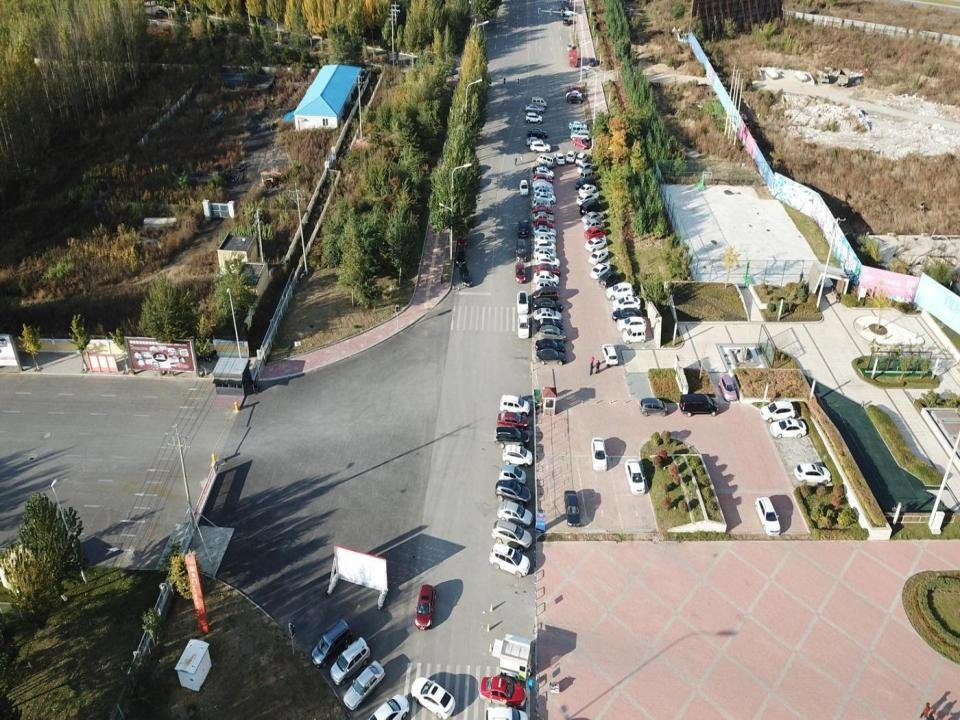car: (344, 658, 386, 710), (311, 618, 350, 670), (330, 637, 369, 688), (410, 679, 455, 719), (480, 676, 528, 710), (490, 545, 532, 579), (492, 519, 532, 552), (754, 496, 780, 537), (414, 584, 436, 629), (370, 695, 411, 719), (494, 480, 530, 507), (497, 502, 533, 529), (679, 395, 719, 415), (794, 462, 830, 484), (767, 420, 808, 439), (760, 400, 795, 422), (502, 444, 532, 469), (494, 427, 530, 447), (625, 460, 644, 496), (563, 489, 581, 525), (590, 437, 608, 473), (500, 394, 529, 416), (483, 705, 526, 719), (497, 412, 528, 431), (535, 348, 567, 366), (606, 282, 635, 301), (499, 465, 525, 486), (640, 398, 668, 417), (540, 325, 566, 344), (578, 199, 603, 218), (720, 376, 738, 402), (532, 309, 562, 324), (532, 299, 564, 313), (617, 318, 646, 333), (612, 295, 641, 310), (602, 344, 620, 368), (612, 308, 641, 322), (533, 287, 559, 302), (535, 340, 565, 353), (575, 175, 595, 194), (599, 269, 620, 287), (533, 271, 559, 285), (584, 238, 608, 253), (590, 263, 609, 281), (583, 227, 607, 241), (515, 238, 528, 263), (624, 329, 645, 344), (533, 248, 557, 261), (536, 255, 560, 268), (575, 193, 597, 207), (588, 251, 608, 266), (569, 128, 592, 141), (459, 265, 472, 288), (582, 218, 603, 232), (532, 204, 553, 218), (536, 278, 557, 292), (517, 313, 528, 339), (532, 213, 555, 225), (535, 265, 560, 276), (582, 211, 603, 224), (532, 178, 553, 191), (580, 182, 598, 197), (516, 290, 528, 312), (536, 320, 562, 330), (514, 262, 526, 283), (529, 140, 550, 152), (527, 127, 548, 139), (531, 198, 552, 210), (526, 102, 545, 115), (534, 234, 556, 245), (535, 167, 555, 179), (532, 226, 556, 236), (456, 244, 467, 265), (534, 194, 557, 204), (569, 120, 588, 132), (566, 93, 584, 105), (535, 241, 556, 251), (518, 218, 528, 238), (457, 228, 467, 248), (578, 162, 594, 174), (526, 136, 542, 148), (565, 90, 584, 100), (574, 137, 588, 150), (519, 178, 529, 196), (533, 164, 551, 174), (534, 220, 554, 229), (566, 148, 576, 165), (526, 112, 543, 122), (576, 151, 588, 165), (533, 174, 552, 182), (554, 152, 565, 164), (568, 85, 580, 93), (589, 56, 596, 66), (566, 42, 573, 52), (563, 15, 569, 25)
truck: (568, 49, 577, 67)
van: (578, 168, 596, 184), (537, 155, 556, 168), (532, 96, 547, 108)
